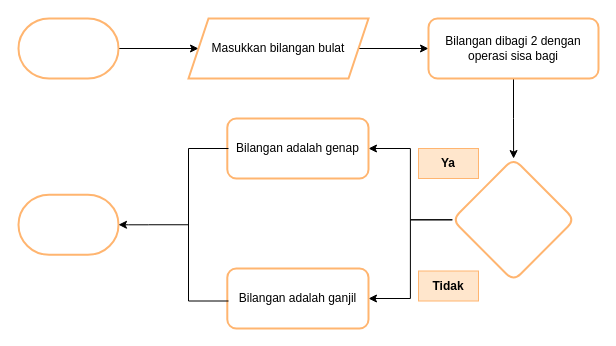
Image size: 616x346. Some labels were removed from this diagram. The shapes that lost their labels are listed below. From the top down, each one's box as (x1, y1, x2, y2) in pixels, then its label:
(17, 17, 119, 79): Start
(17, 193, 119, 255): End
(451, 157, 575, 282): Sisa bagi sama dengan nol
